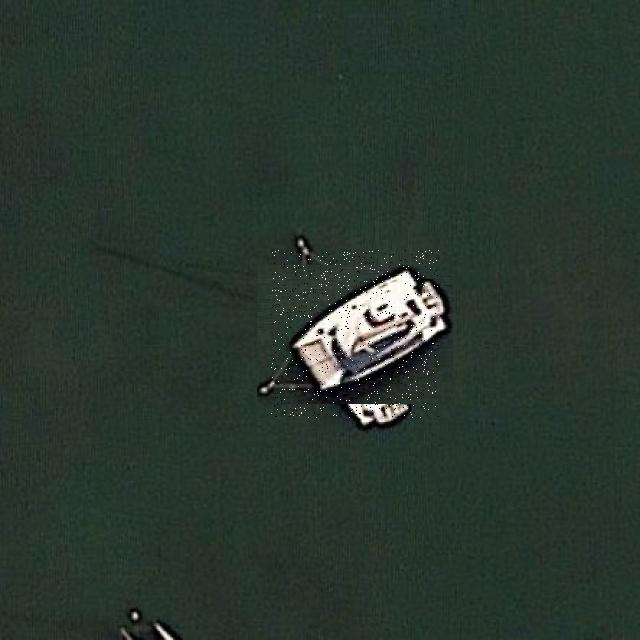boat: (272, 250, 439, 418)
